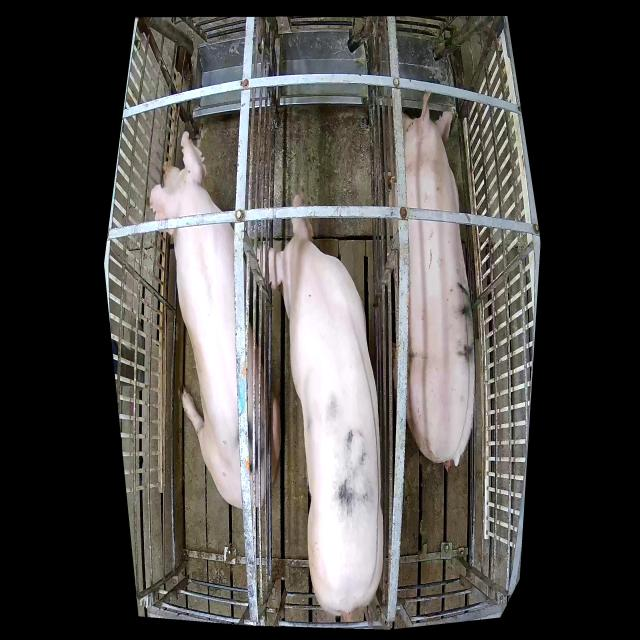pig: (252, 194, 383, 615), (150, 132, 280, 508), (389, 111, 475, 470)
